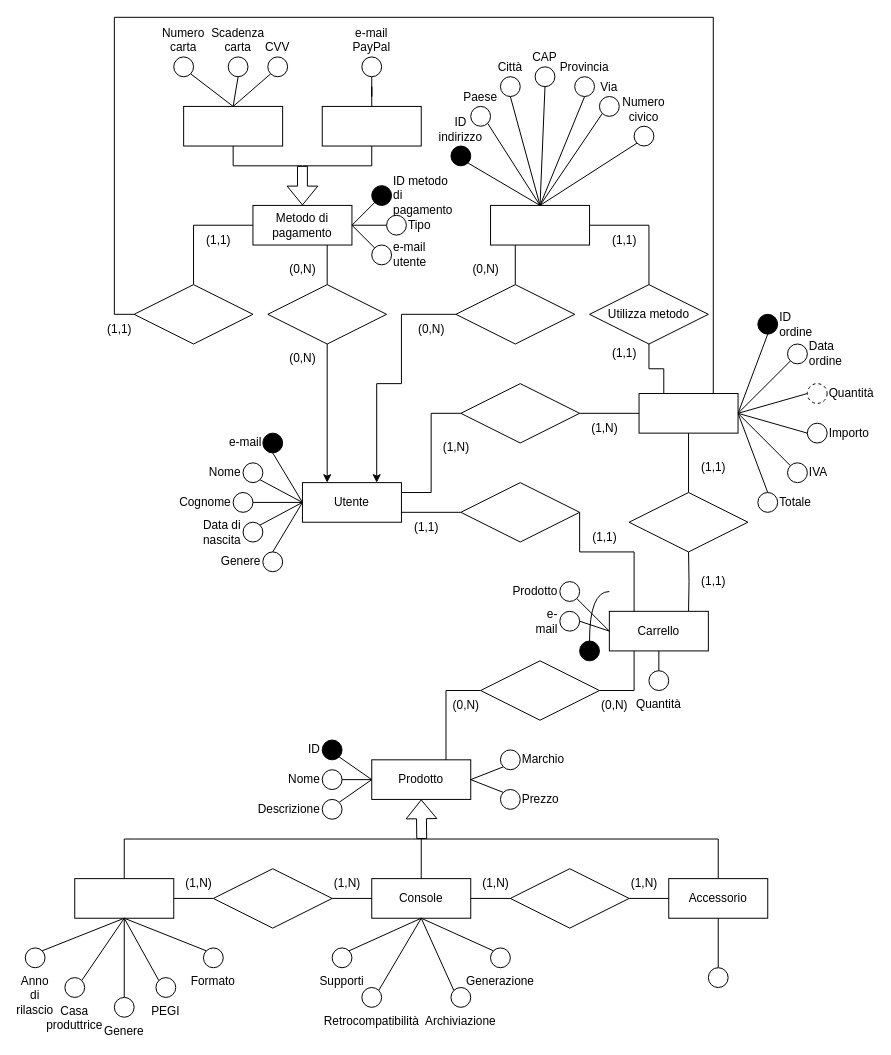
Some shapes in this 891 by 1055 pixel diagram are drawn without their labels. The box of each missing label's shape, as (x1, y1, x2, y2) in pixels:
Carta di credito: (183, 105, 283, 146)
Compatibile con: (509, 868, 629, 928)
Contiene: (628, 492, 748, 552)
Effettua: (460, 383, 580, 443)
Esegue su: (212, 868, 332, 928)
Gioco: (74, 878, 174, 918)
Include: (480, 660, 599, 720)
Indirizzo di fatturazione: (490, 204, 590, 245)
Ordine: (638, 393, 738, 433)
PayPal: (321, 105, 421, 146)
Possiede indirizzo: (455, 284, 575, 344)
Possiede metodo: (267, 284, 387, 344)
Tipo accessorio: (707, 967, 728, 988)
Utilizza indirizzo: (133, 284, 253, 344)
Vuole acquistare: (460, 482, 580, 542)
